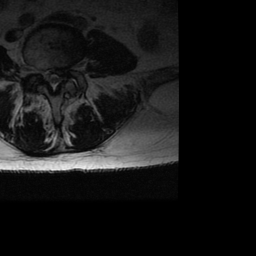CCS_normal: (51, 63, 57, 95)
LFS_severe_stenosis: (64, 60, 70, 80)
LLS_severe_stenosis: (58, 63, 64, 89)
RFS_severe_stenosis: (37, 62, 44, 83)
RLS_normal: (44, 63, 51, 87)
